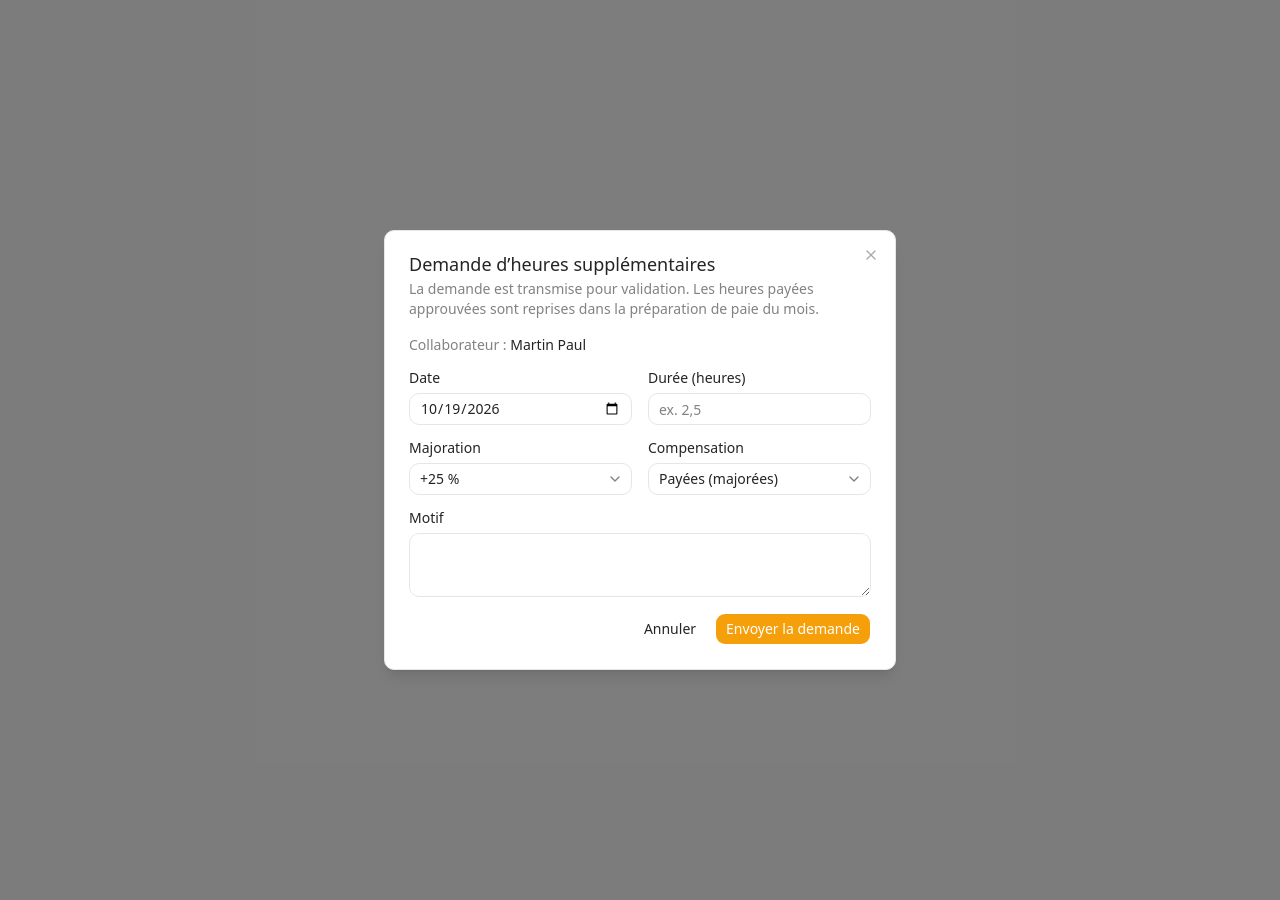
Test: DemandeHeuresSupDialog › exige une durée
The width and height of the screenshot is (1280, 900).
Click the button "Envoyer la demande" at {"x": 793, "y": 629}, box [715, 613, 871, 645]
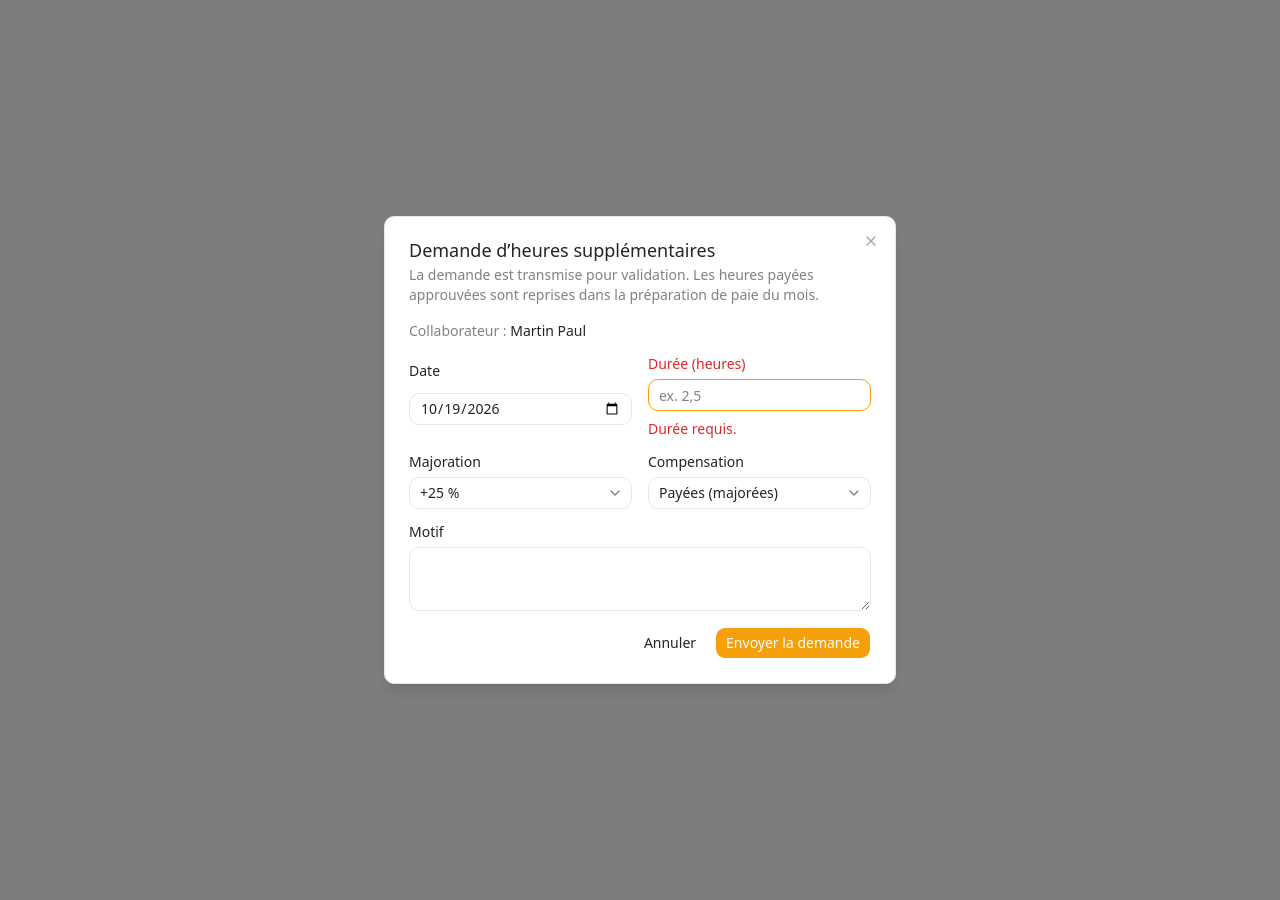
Check: the text "Durée requis." is shown, box [648, 419, 736, 438]
